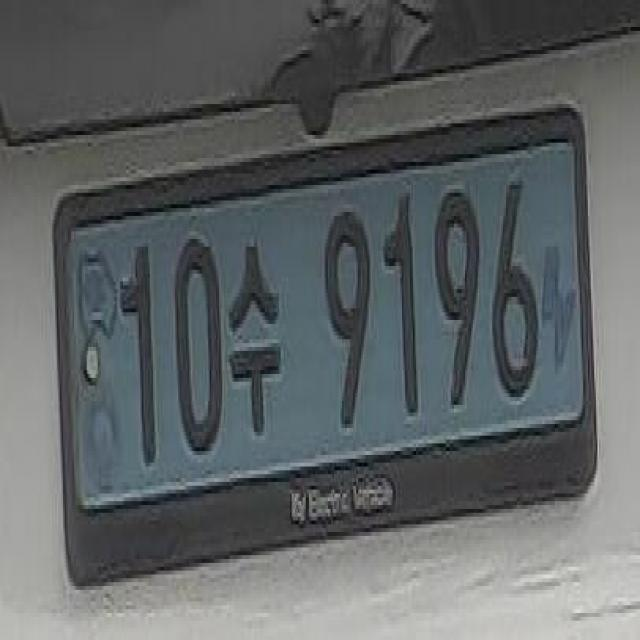EV_plate: (50, 119, 605, 593)
